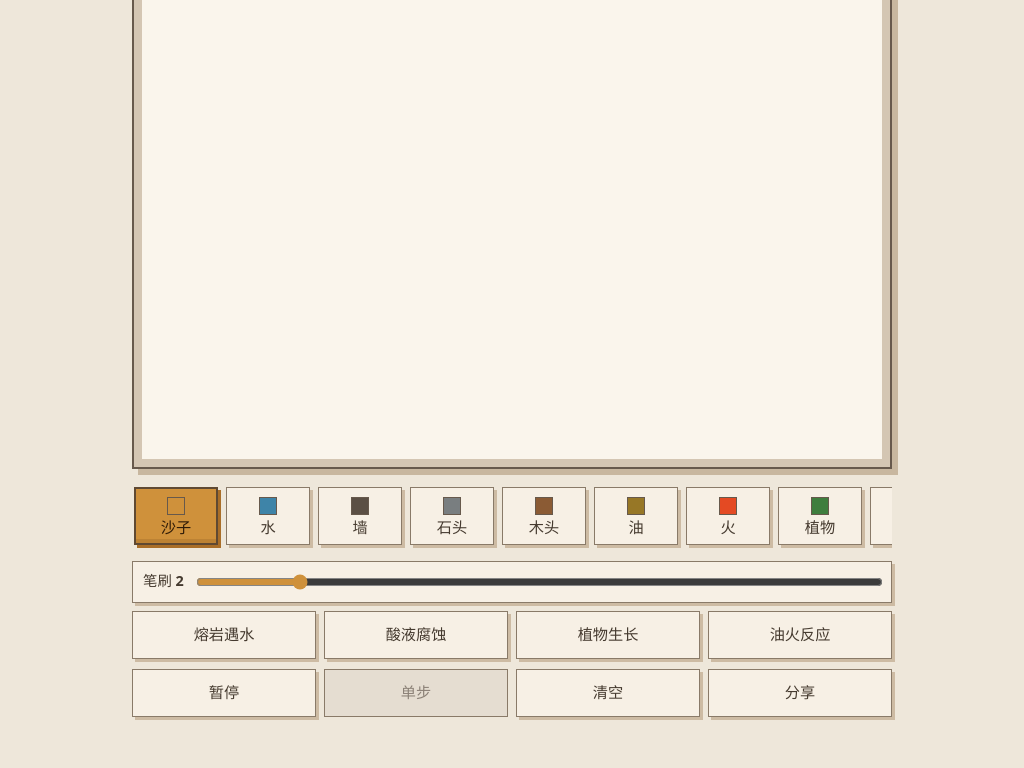
Test case: App › clears scene guidance when the canvas is cleared
(page scrolled)
Step 1. Click the button "熔岩遇水" → (224, 635), box [132,611,316,659]
(page scrolled)
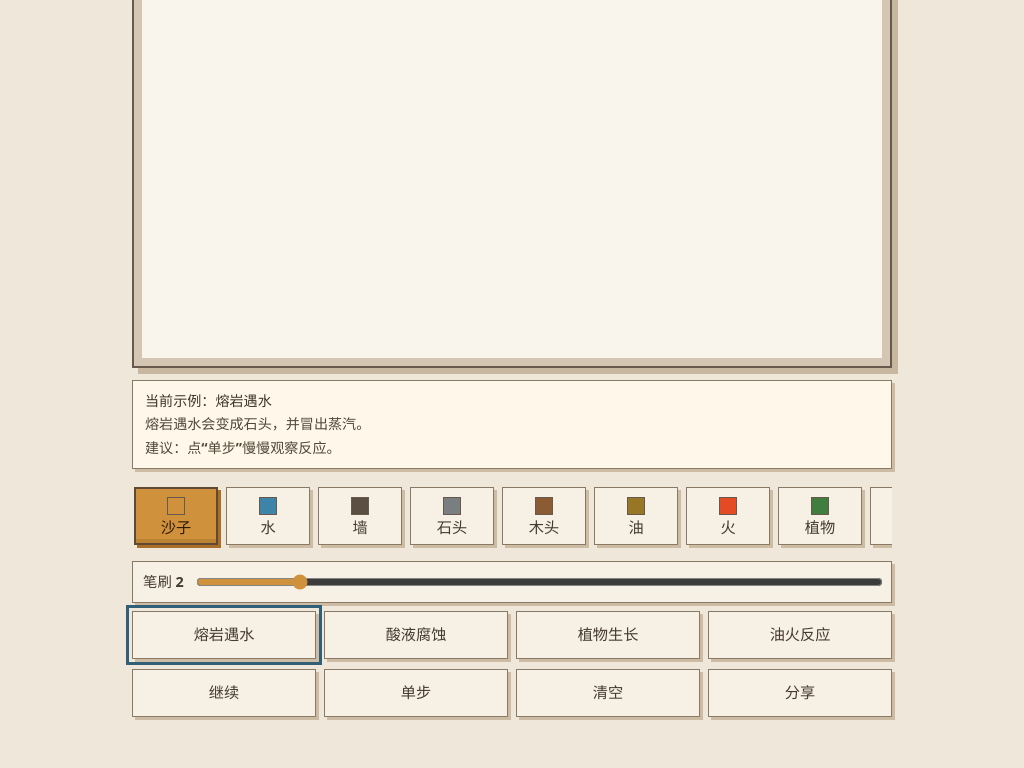
Step 2. Click the button "清空" → (608, 693), box [516,669,700,717]
(page scrolled)
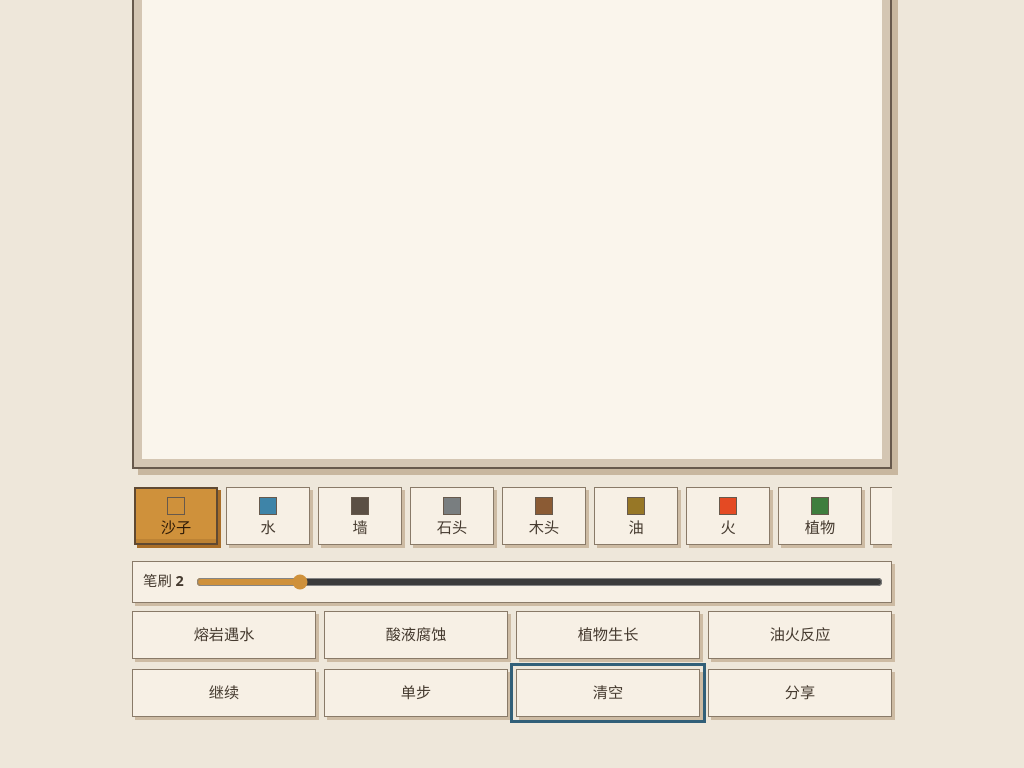
Check: the text "当前示例：熔岩遇水" is gone
